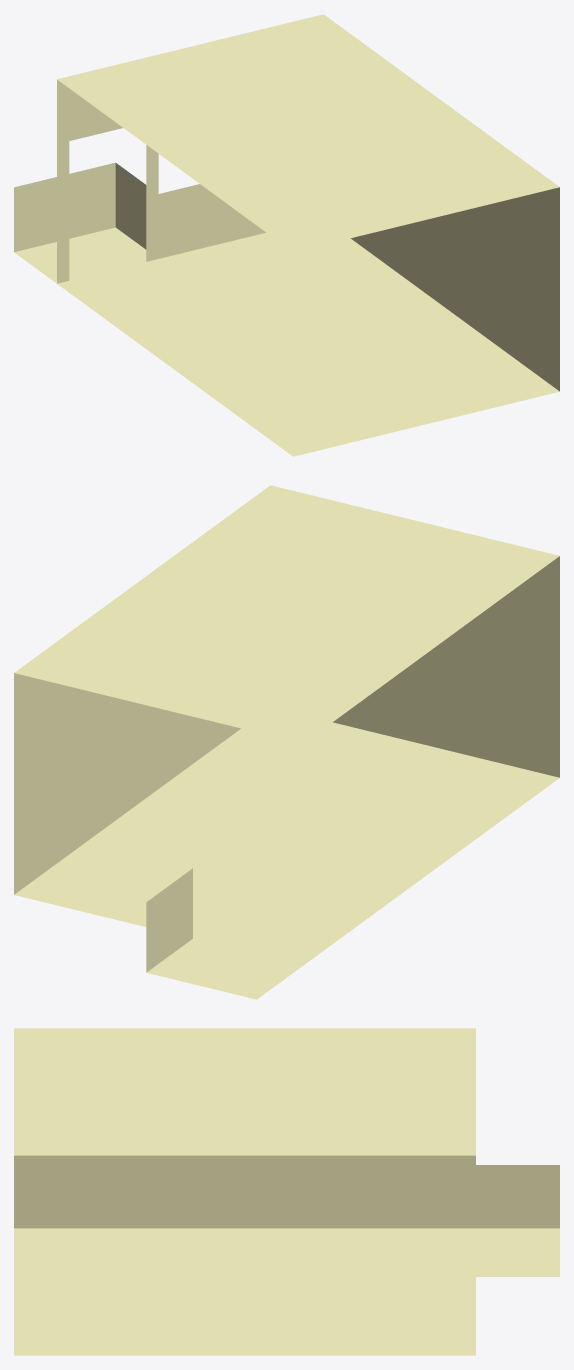
Rendered from oneBR.gltf.
3 views of the same model, one above another, from view 1: azimuth 30°, elevation 25°; view 2: azimuth 150°, elevation 25°; view 3: azimuth 270°, elevation 25° (orthographic). The views are drawn at different scales.
Size of the model in its own units: 4.3 by 3.15 by 7.8.
